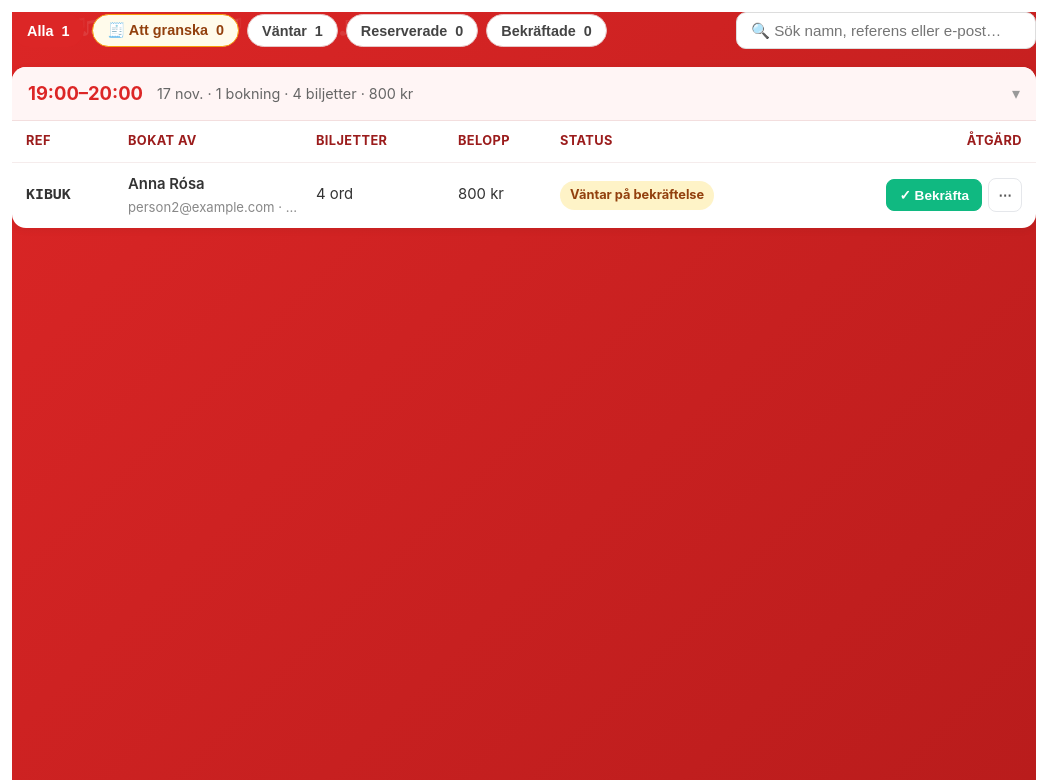
it: AdminBookingList › closes the ⋯ menu on Escape
The width and height of the screenshot is (1048, 780).
Click the button named "Fler åtgärder för KIBUK": [1005, 195] box [988,178,1022,212]
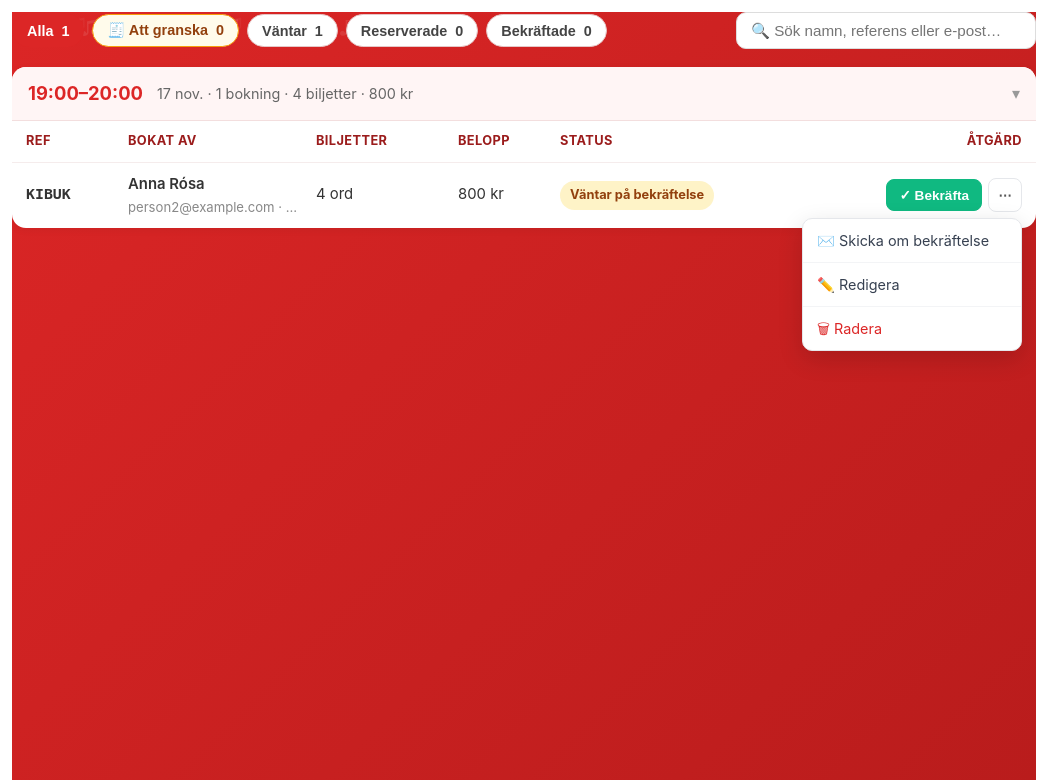
Expected: the menu is shown, [802,218,1022,351]
Press Escape
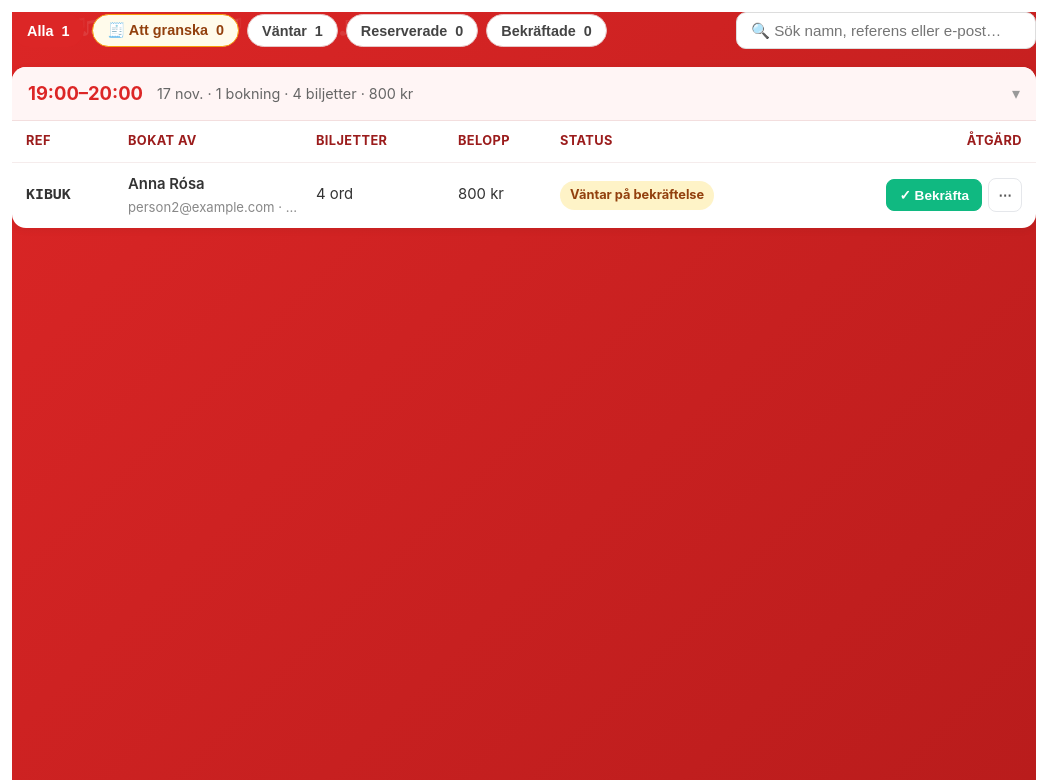
Expected: the menu is gone
